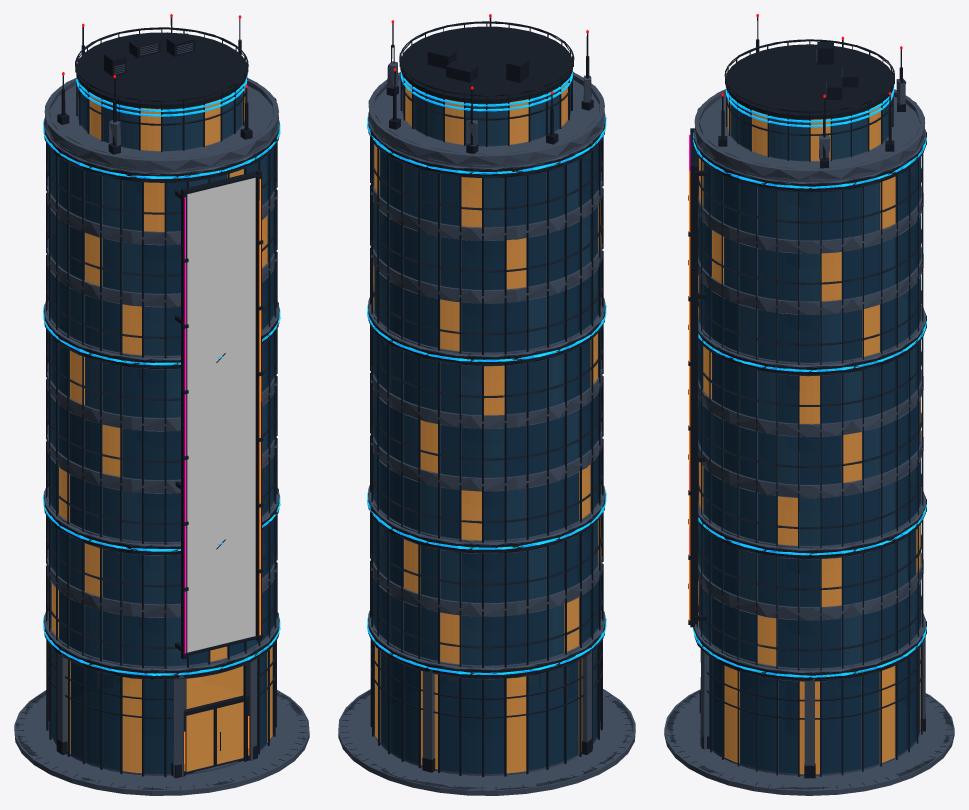
File: runner-building-04.glb
The picture shows the model from 3 angles, left to right: view 1: azimuth 30°, elevation 25°; view 2: azimuth 150°, elevation 25°; view 3: azimuth 270°, elevation 25°; orthographic projection. The views are drawn at different scales.
Parts seen in each view (by area): view 1: building-04, building-04-ad; view 2: building-04; view 3: building-04.
Part boxes in pixels (box(x1,y1,x2,y2)): building-04: box(14, 14, 309, 795); building-04-ad: box(187, 177, 255, 652); building-04: box(338, 14, 635, 795); building-04: box(664, 14, 954, 795).
Size of the model in its own units: 5.7 by 14.79 by 5.69.
